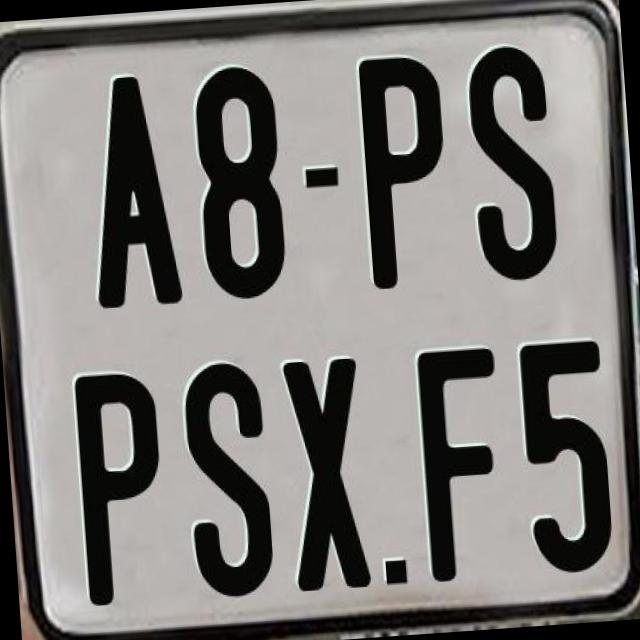5: (516, 334, 616, 570)
8: (187, 61, 290, 306)
A: (82, 70, 186, 310)
F: (412, 346, 513, 584)
P: (74, 365, 176, 609), (358, 49, 457, 288)
S: (181, 358, 276, 606), (466, 41, 560, 285)
X: (281, 352, 373, 588)
